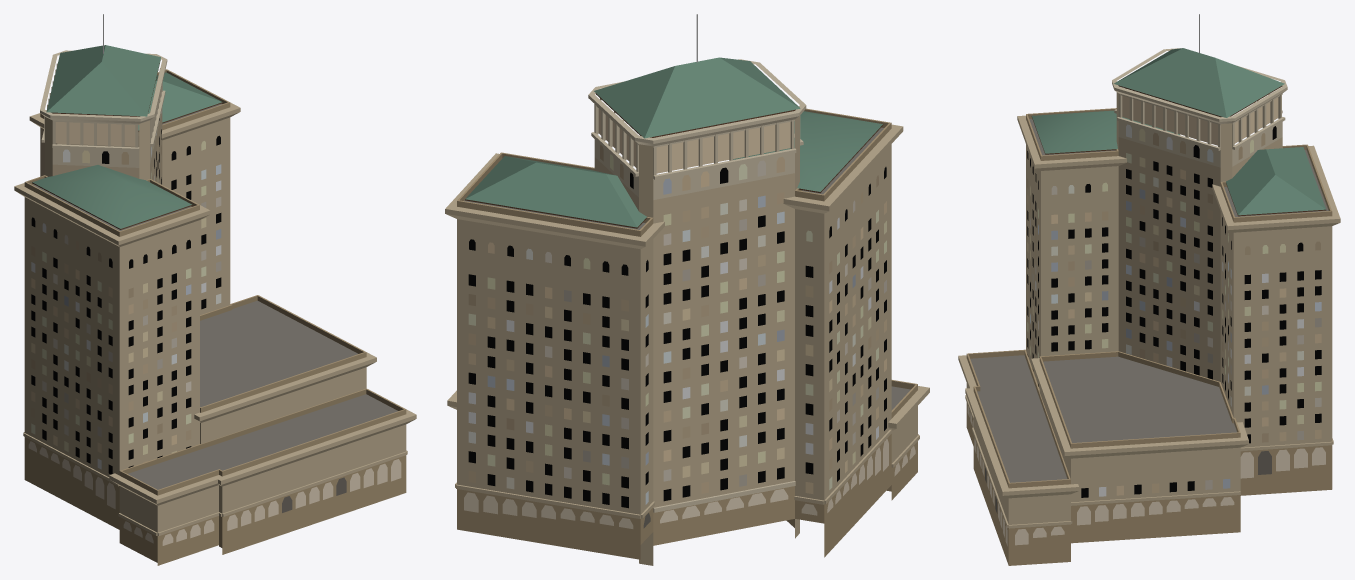
The model's file is markHopkins_lod1.glb.
The picture shows the model from 3 angles, left to right: view 1: azimuth 30°, elevation 25°; view 2: azimuth 150°, elevation 25°; view 3: azimuth 270°, elevation 25°; orthographic projection. The views are drawn at different scales.
Parts seen in each view (by area): view 1: L1_stone, L1_roof, L1_paint, L1_win, L1_shop, L1_wood; view 2: L1_stone, L1_win, L1_paint, L1_shop, L1_roof, L1_wood; view 3: L1_stone, L1_roof, L1_win, L1_paint, L1_shop, L1_wood.
Boxes of the visible parts, x1,y1,x2,y2 form: L1_stone: (14,50,416,565); L1_roof: (33,103,398,489); L1_paint: (32,45,222,228); L1_win: (31,69,221,474); L1_shop: (28,441,401,545); L1_wood: (32,60,222,229); L1_stone: (445,59,929,565); L1_win: (468,108,886,508); L1_paint: (465,57,882,227); L1_shop: (464,439,915,528); L1_roof: (464,127,910,410); L1_wood: (465,93,883,228); L1_stone: (958,48,1340,565); L1_roof: (970,119,1328,482); L1_win: (1027,96,1321,497); L1_paint: (1032,48,1325,215); L1_shop: (967,406,1325,546); L1_wood: (1031,85,1326,216).
Bounding box in the file's own units: 67.81 × 95 × 72.75.
